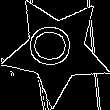O_E: (30, 27, 82, 74)
